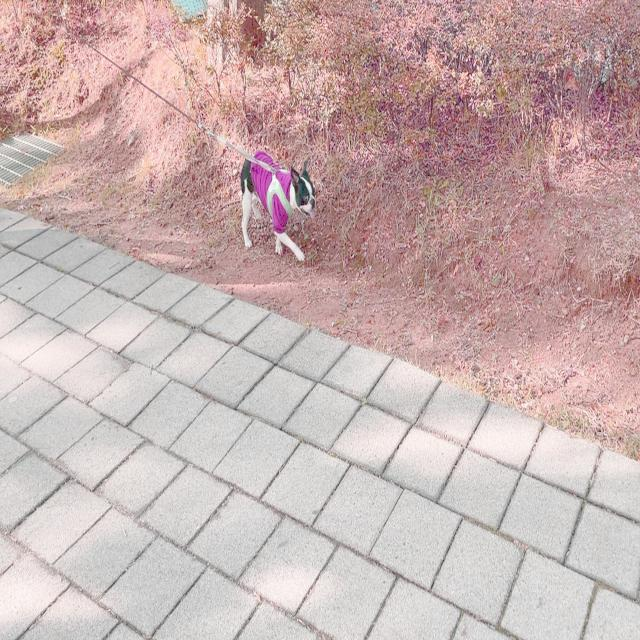Dog: (240, 146, 316, 261)
